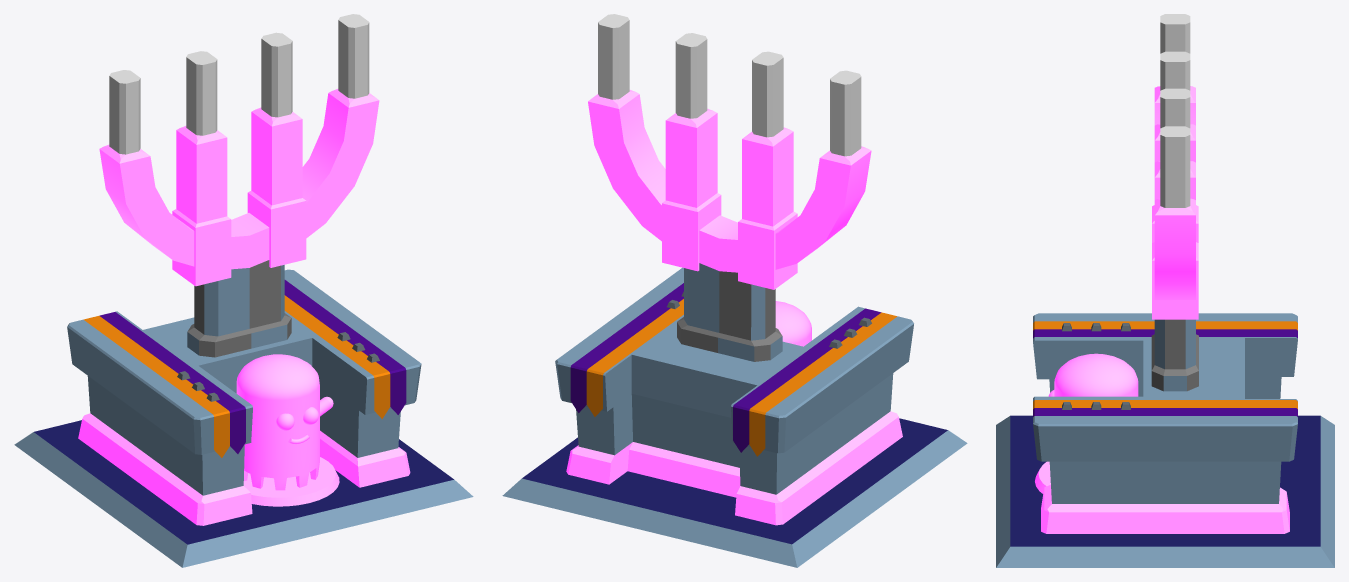
The model's file is 18_aaltar_9.fbx.
The picture shows the model from 3 angles, left to right: view 1: azimuth 30°, elevation 25°; view 2: azimuth 150°, elevation 25°; view 3: azimuth 270°, elevation 25°; orthographic projection.
Parts seen in each view (by area): view 1: foundation_9; view 2: foundation_9; view 3: foundation_9.
Part boxes in pixels (box(x1,y1,x2,y2)): foundation_9: box(14, 14, 473, 567); foundation_9: box(502, 14, 967, 567); foundation_9: box(996, 14, 1334, 567).
Bounding box in the file's own units: 78.73 × 108 × 78.73.
